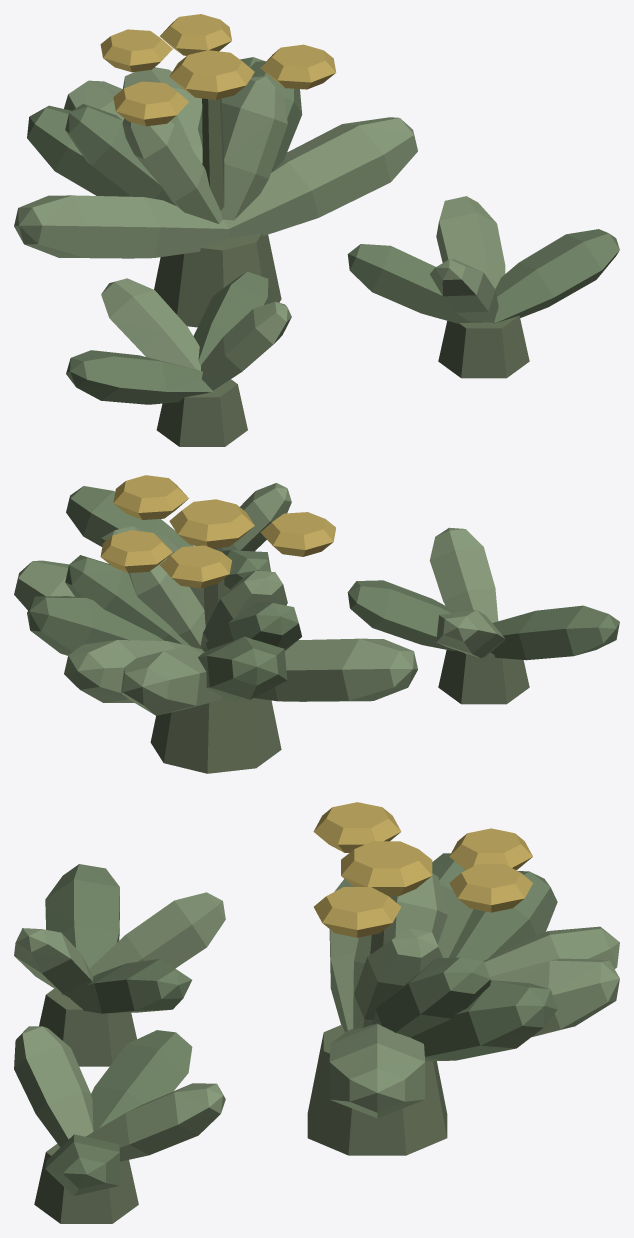
The model's file is stonecrop.gltf.
The picture shows the model from 3 angles, top to bottom: view 1: azimuth 30°, elevation 25°; view 2: azimuth 150°, elevation 25°; view 3: azimuth 270°, elevation 25°; orthographic projection. The views are drawn at different scales.
Visible parts, largest first — view 1: stonecrop; view 2: stonecrop; view 3: stonecrop.
Boxes of the visible parts, <box> form: stonecrop: <box>14,14,619,446</box>; stonecrop: <box>14,475,619,773</box>; stonecrop: <box>14,802,619,1223</box>.
Bounding box in the file's own units: 0.3722 × 0.1544 × 0.3126.
